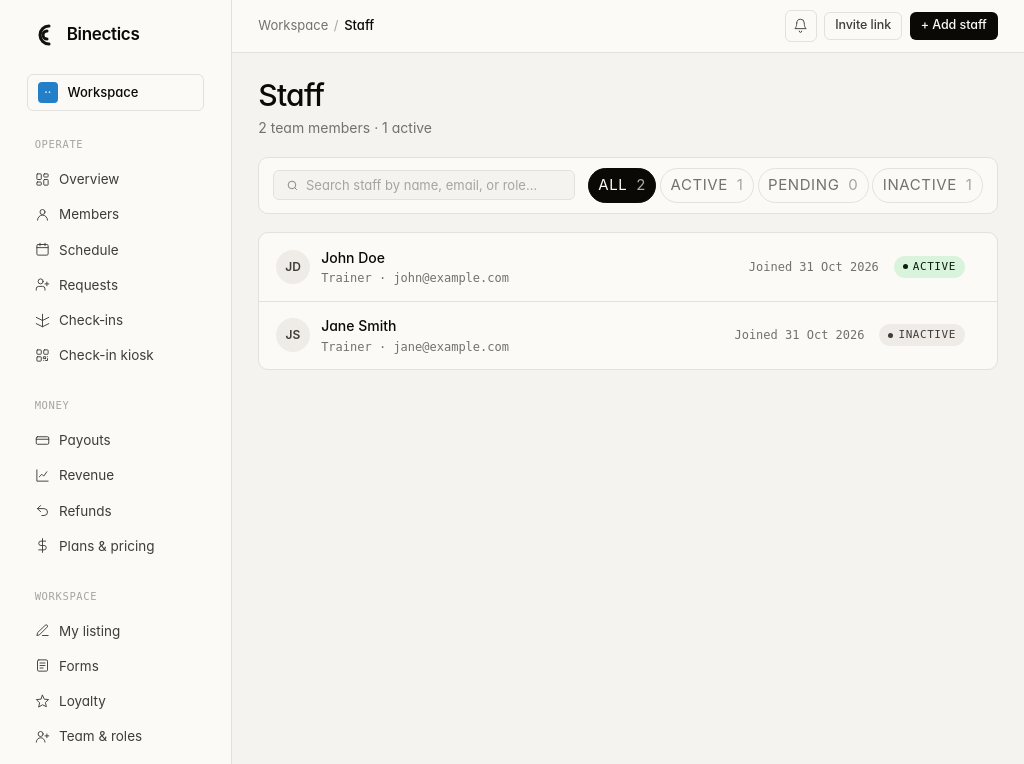
Scenario: Staff List Page › filters members by status
Expected: the link "Jane Smith" is shown, [321,317,396,334]
Step 1. Click the button "Inactive 1" → coordinates (928, 185), box [872,168,983,203]
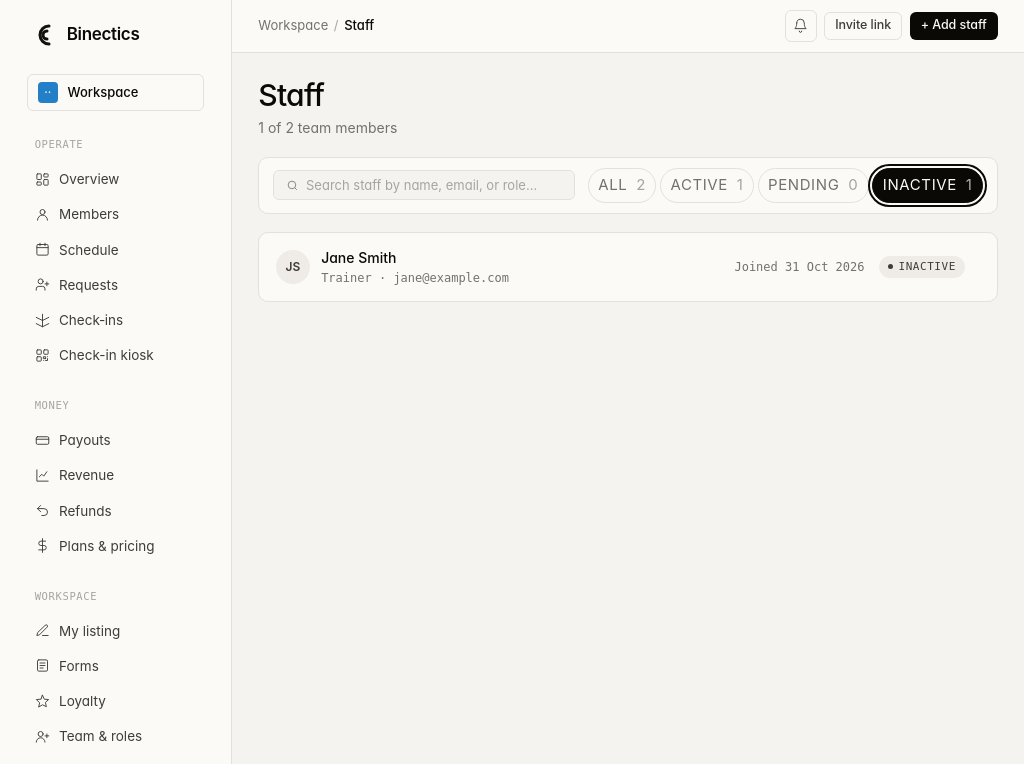
Expected: the link "Jane Smith" is shown, [321,248,396,266]
Result: no links "John Doe" are shown
